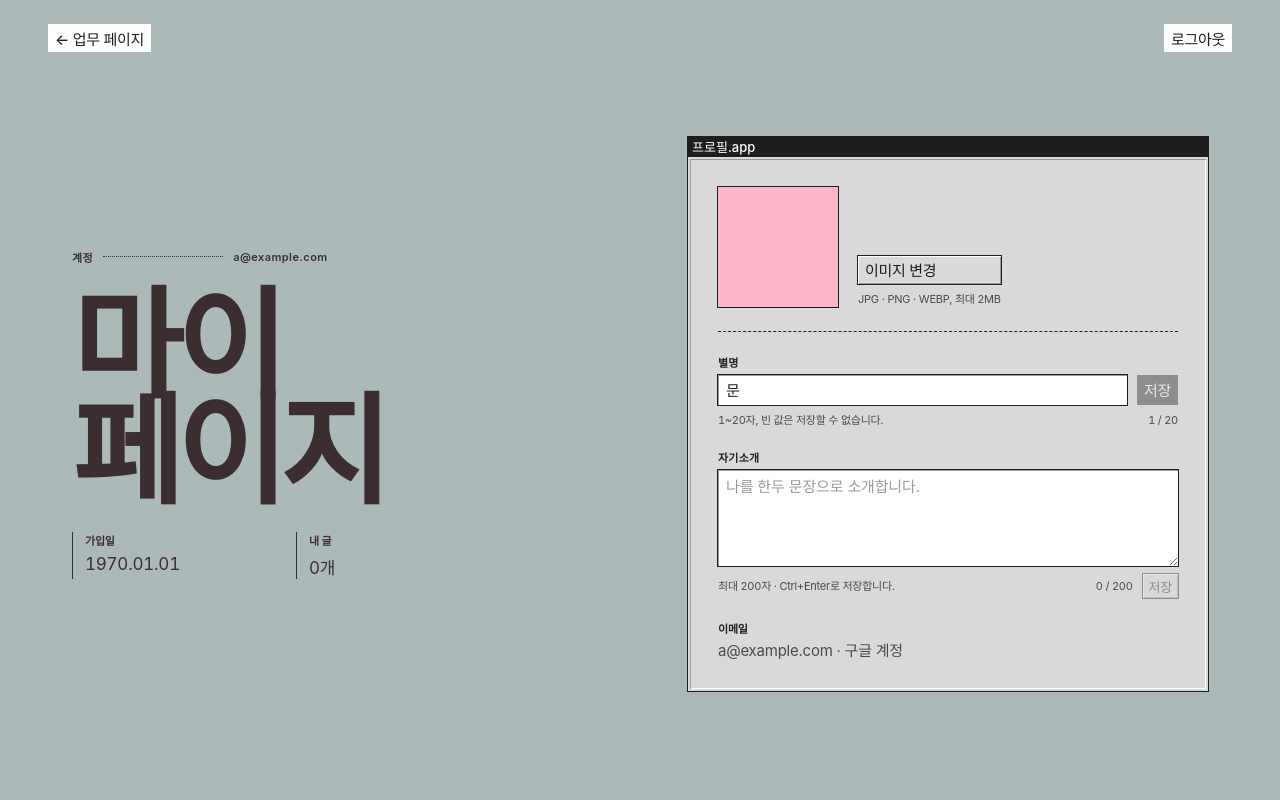
Test: 마이 페이지 자기소개 › 저장에 실패하면 에러 문구를 보여 준다
In the text box labelled "자기소개": (948, 518) [718,470,1178,566], type "소개"
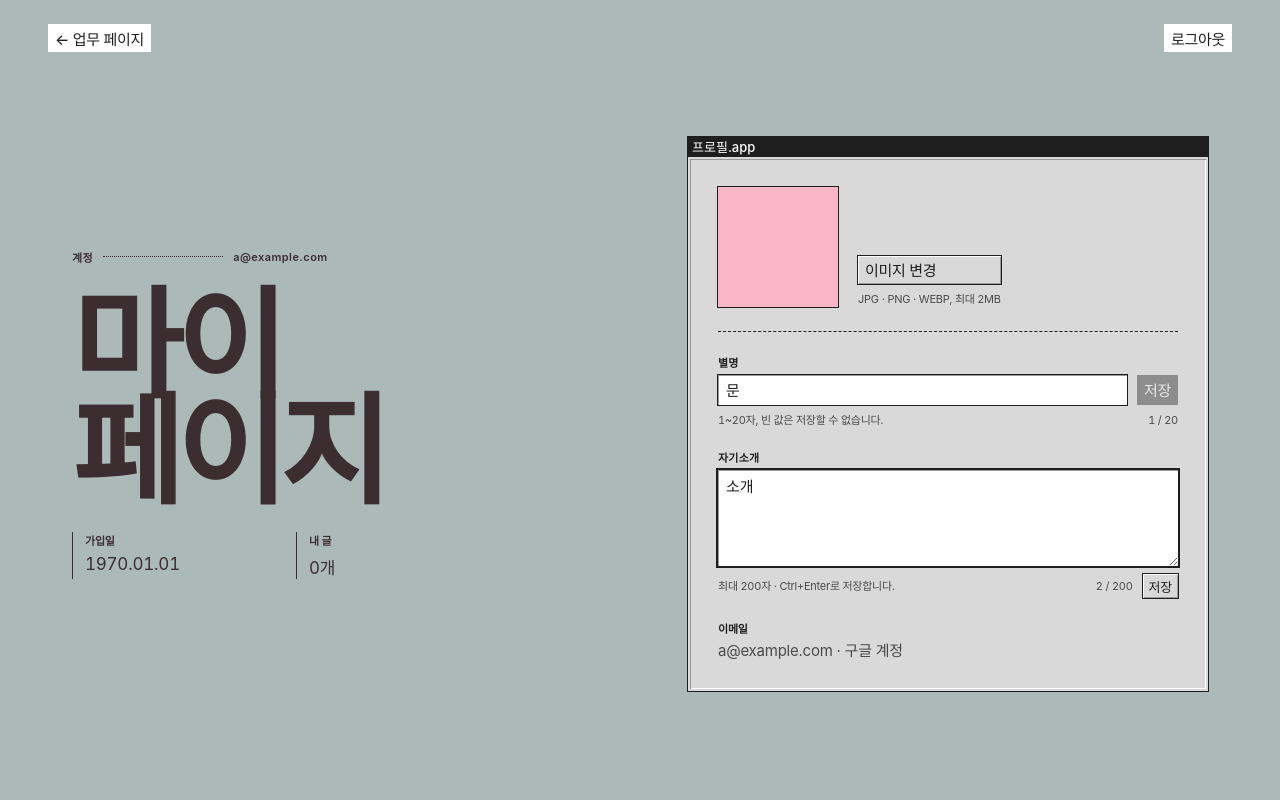
Click the button "저장" in the row of "최대 200자 · Ctrl+Enter로 저장합니다.": (1160, 586) [1143,574,1178,598]
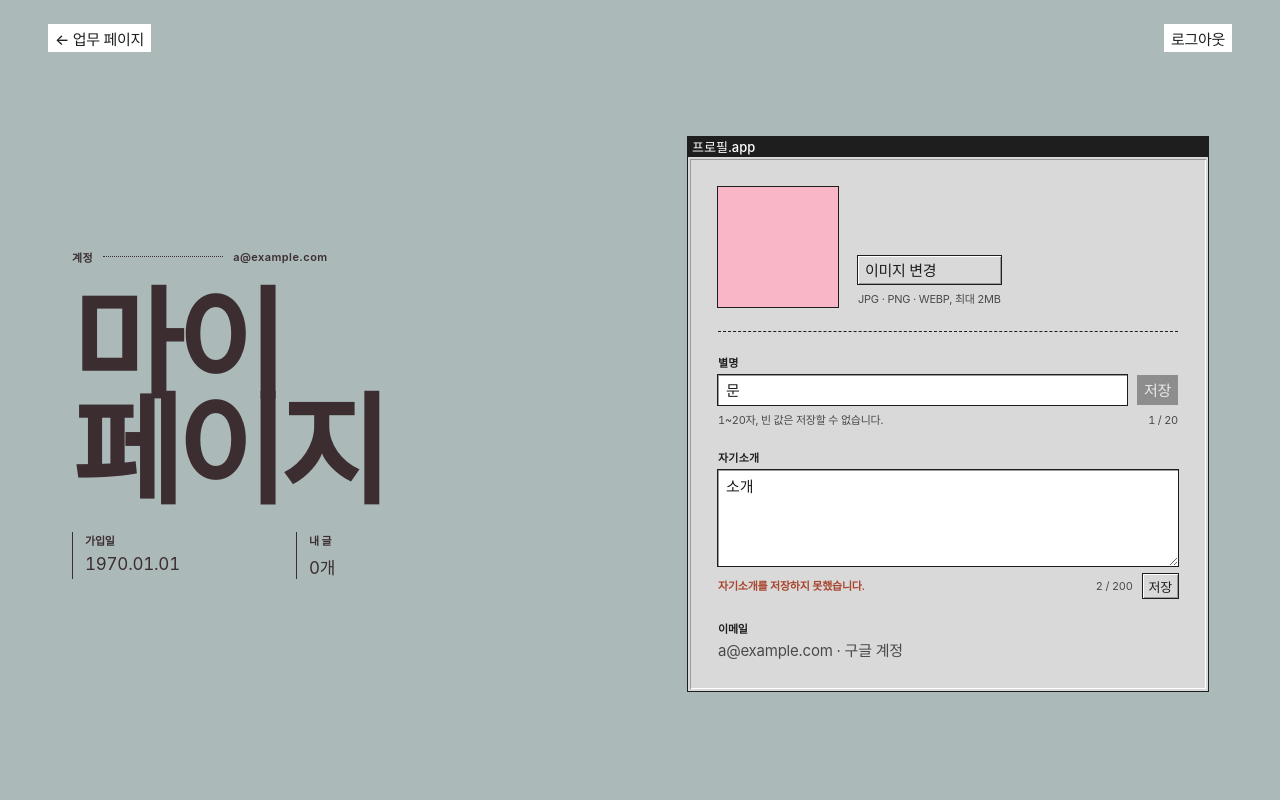
Result: the message reads "자기소개를 저장하지 못했습니다." at [718,579,864,593]
